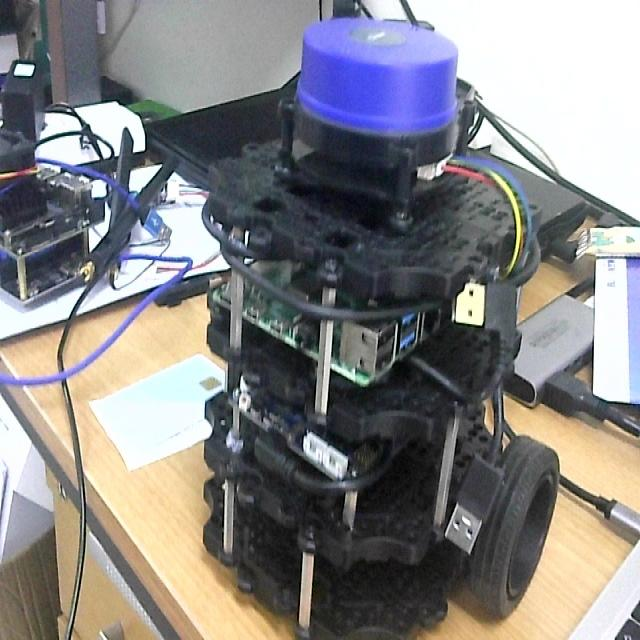turtle: (202, 19, 560, 640)
